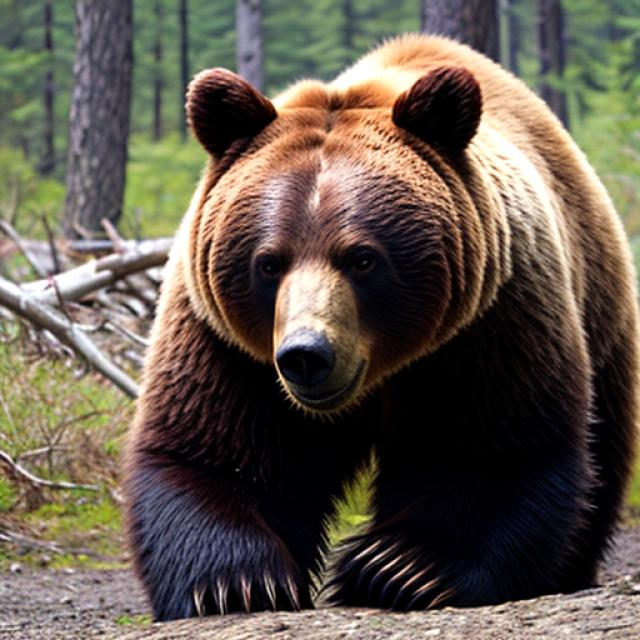bear: (130, 22, 572, 445)
